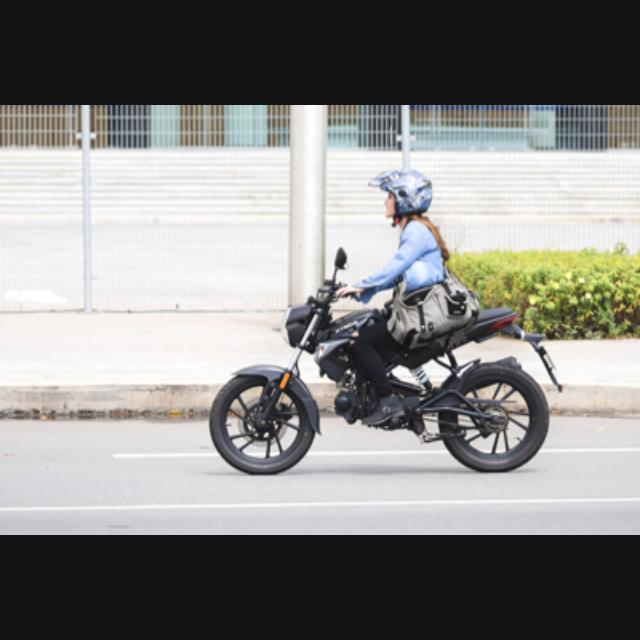With Helmet: (366, 160, 438, 222)
